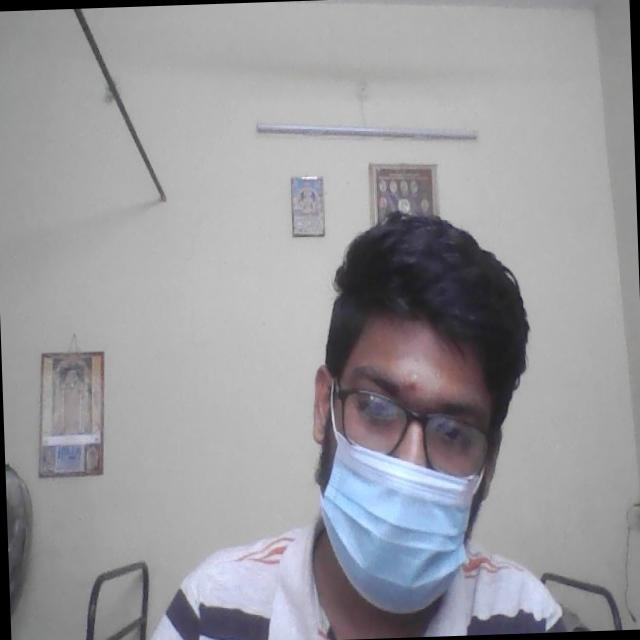Focused: (333, 340, 504, 569)
